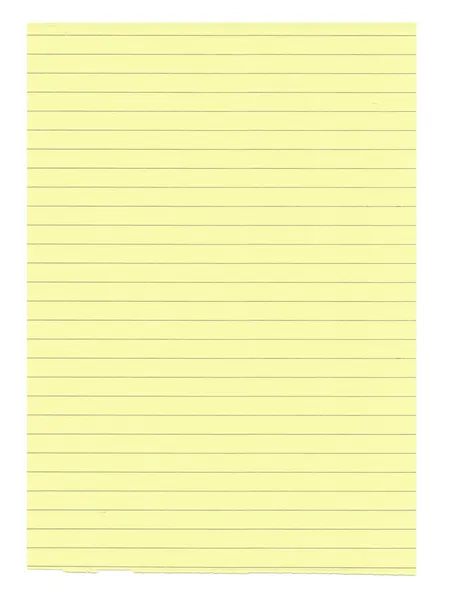page: (29, 24, 415, 579)
